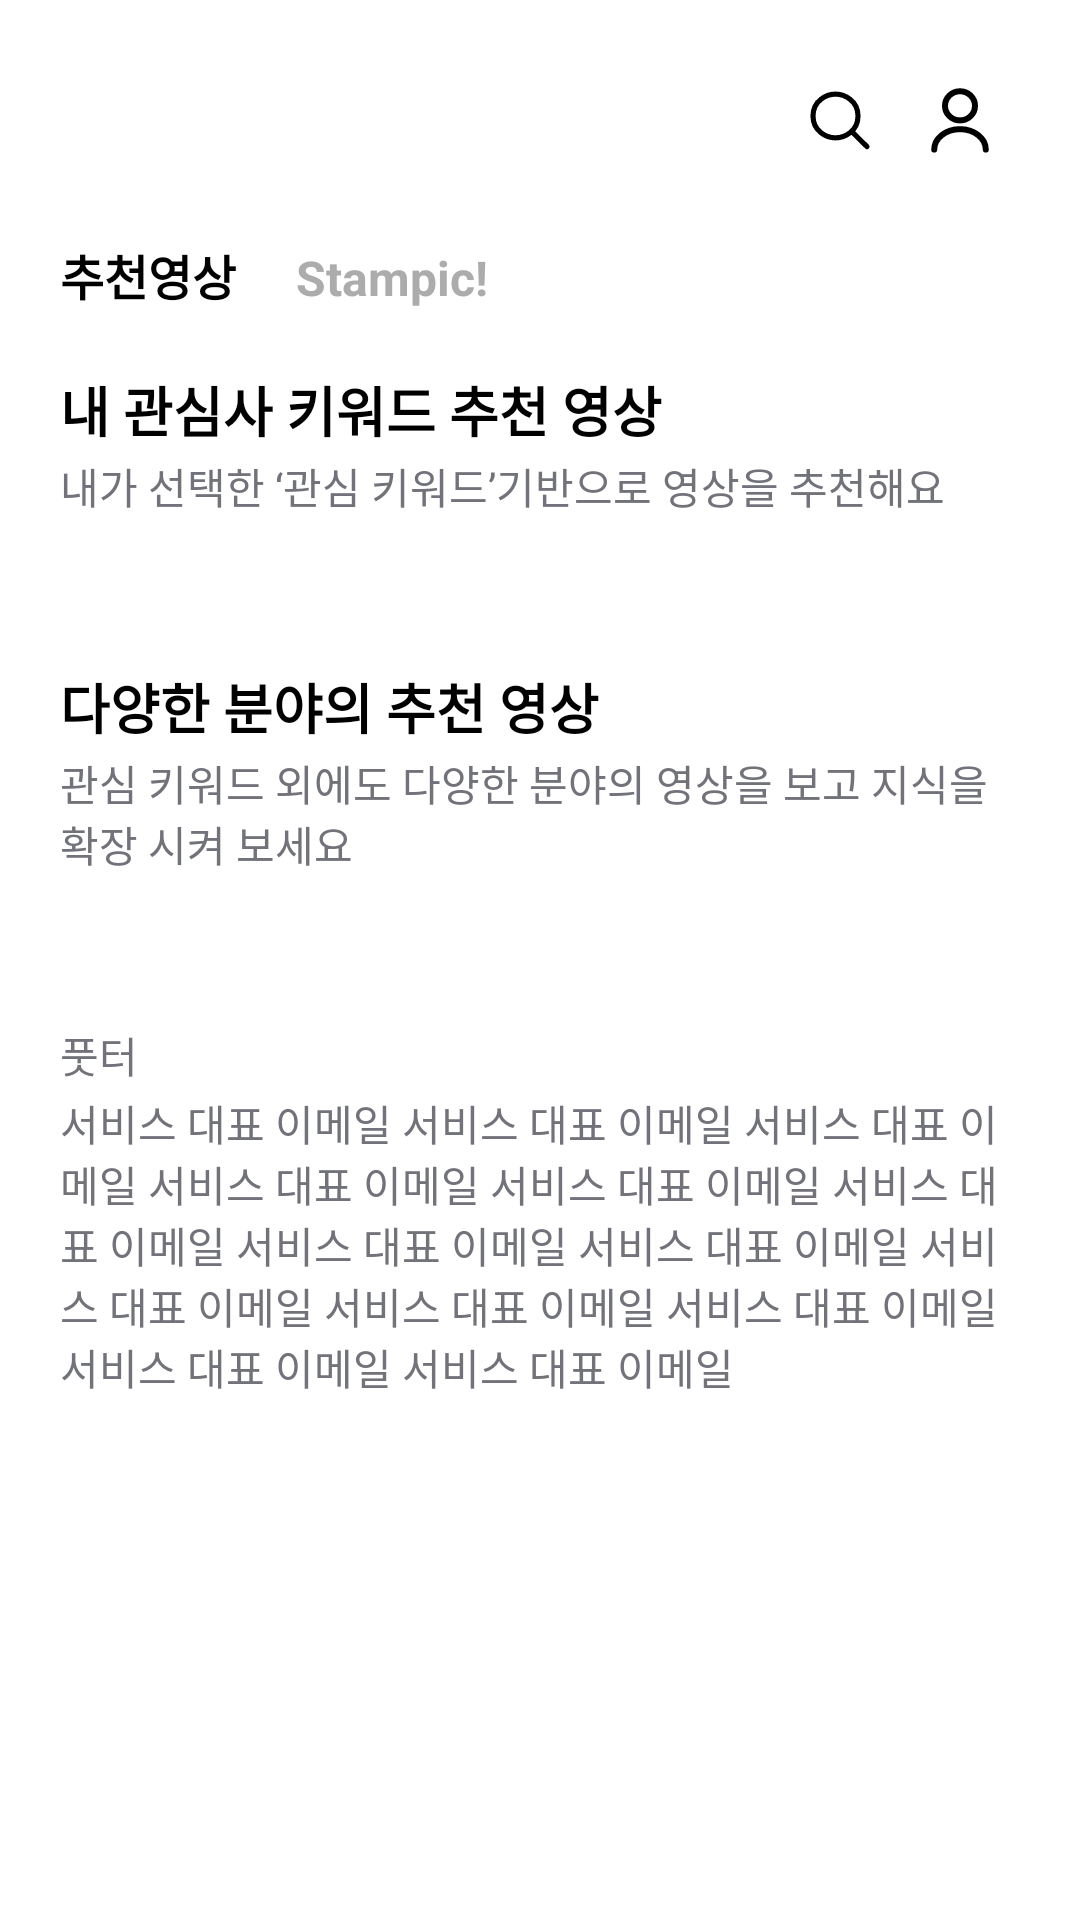

Icon bounding boxes for this 1080 × 1920 phone screenshot, format [x1, y1, x2, y2]:
search: [810, 91, 870, 150]
user: [931, 88, 989, 153]
